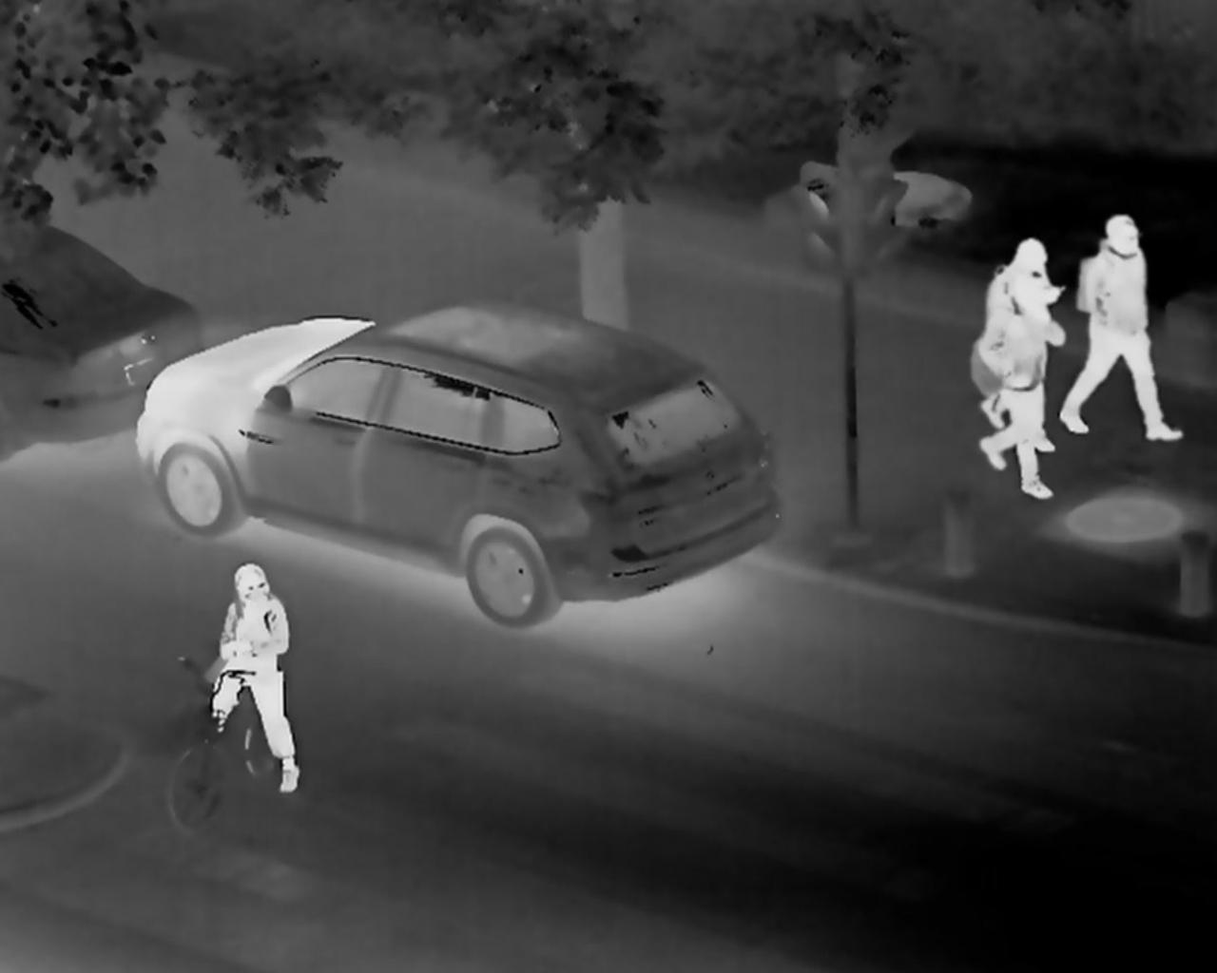person: (1057, 207, 1187, 450), (208, 556, 302, 799), (978, 265, 1053, 505), (979, 233, 1057, 455)
